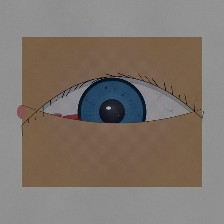hemorrhage_spot: (43, 98, 113, 154)
